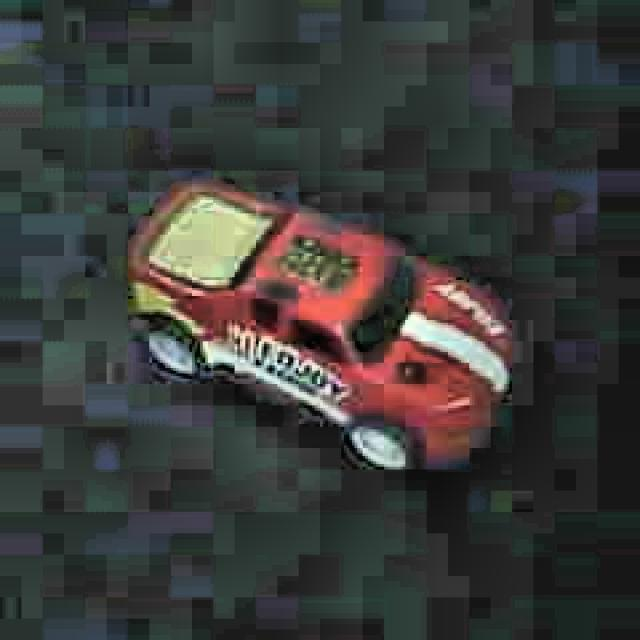car: (124, 174, 515, 487)
